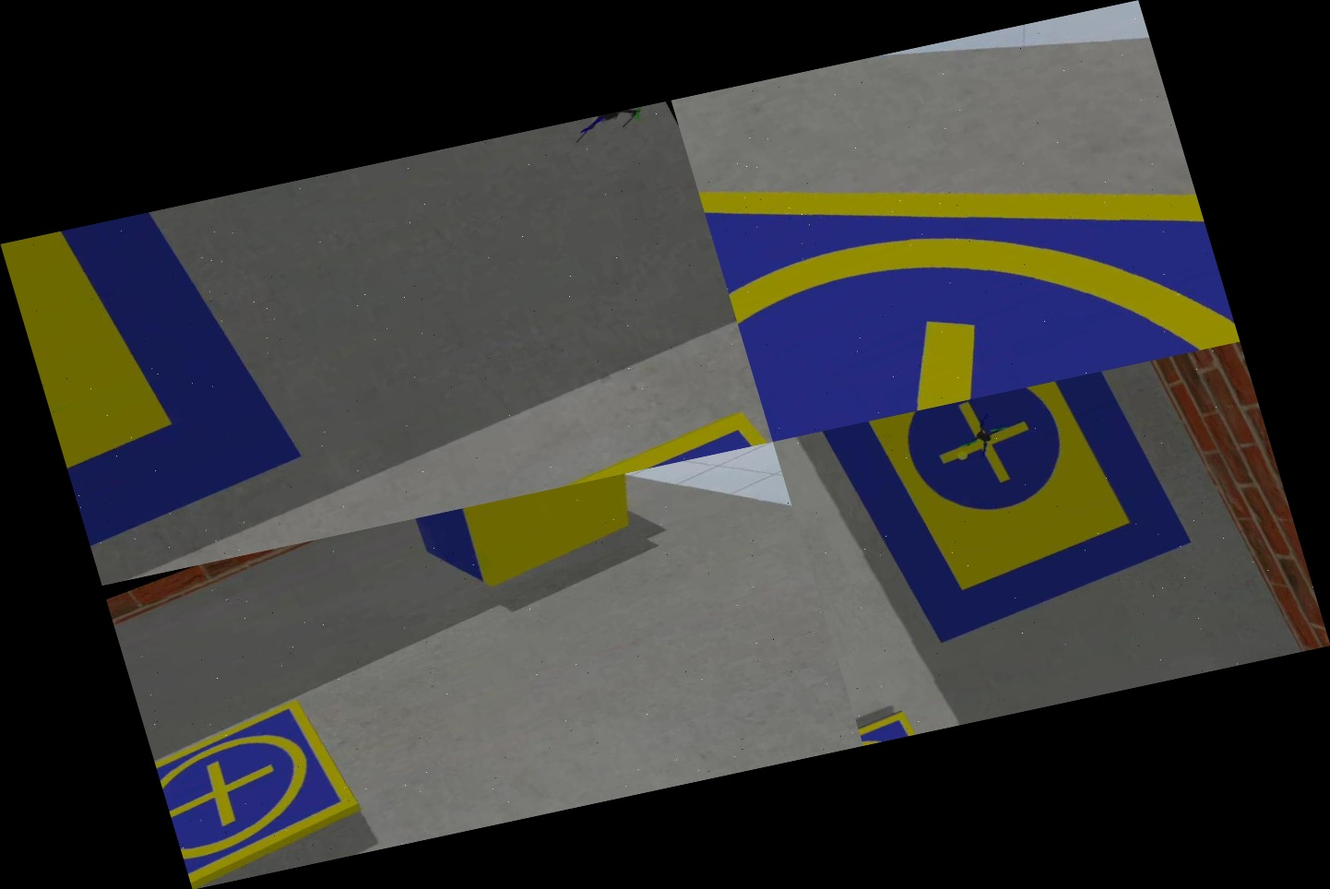large_base: (0, 195, 332, 586), (798, 363, 1205, 660)
small_base: (671, 0, 1240, 442), (146, 691, 382, 889)
